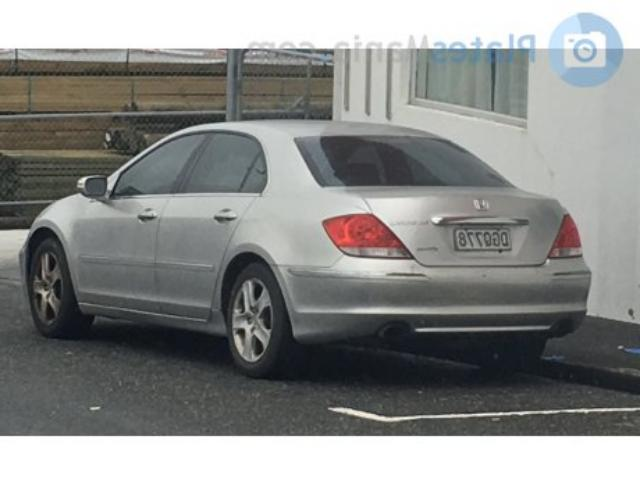Rego: (454, 228, 511, 253)
